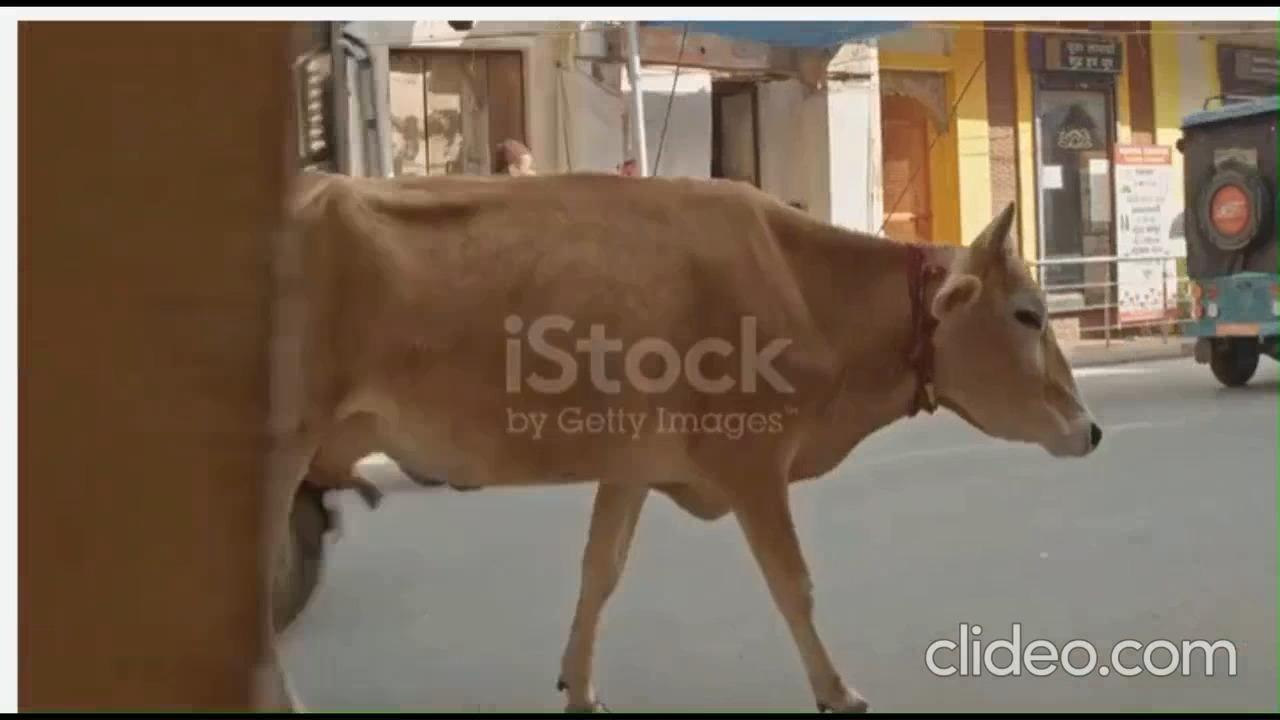Cow: (297, 151, 1103, 702)
